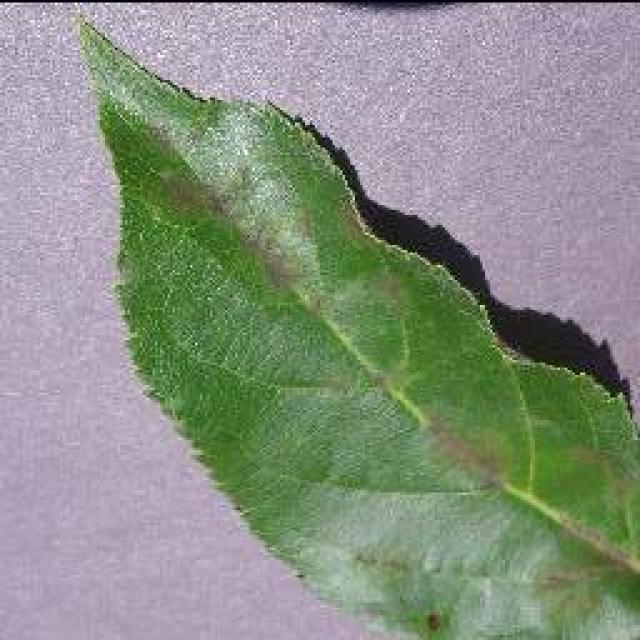apple scab disease: (70, 10, 638, 638)
